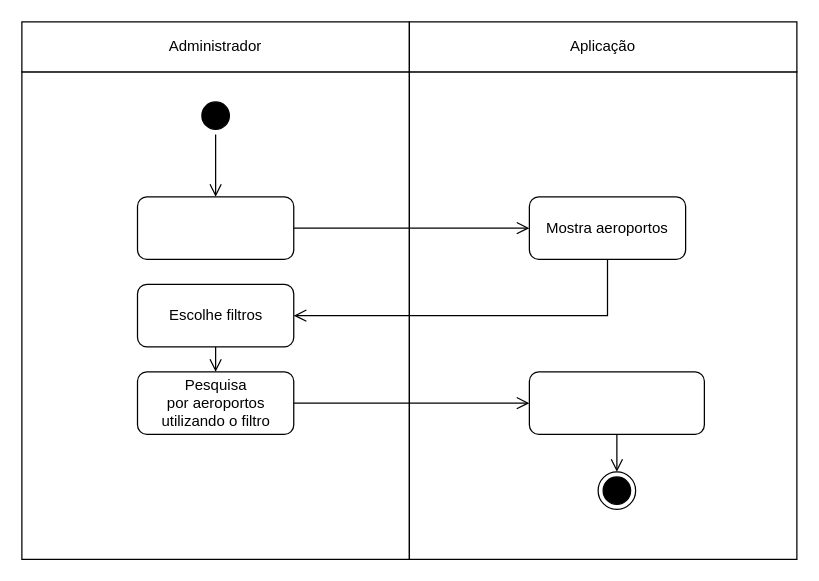
The diagram is 819 pixels wide and 581 high, and some of its shapes have lost their labels. The shapes that lost their labels are listed below. From the top down, each one's centre as x and y in pixels, then its label:
At (215,227): "Entra na tela de ver aeroportos".
At (616,402): "Mostra aeroportos com base no filtro selecionado".
